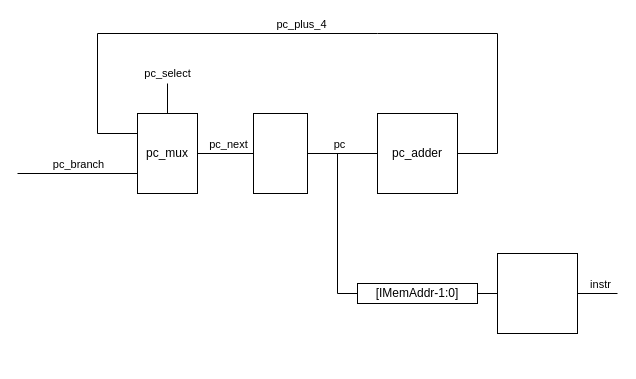
Some shapes in this 636 by 379 pixel diagram are drawn without their labels. Here are the shapes that lost their labels. From the top down, the box of each, then its label:
(252, 112, 308, 194): pc_reg
(496, 252, 578, 334): imem
